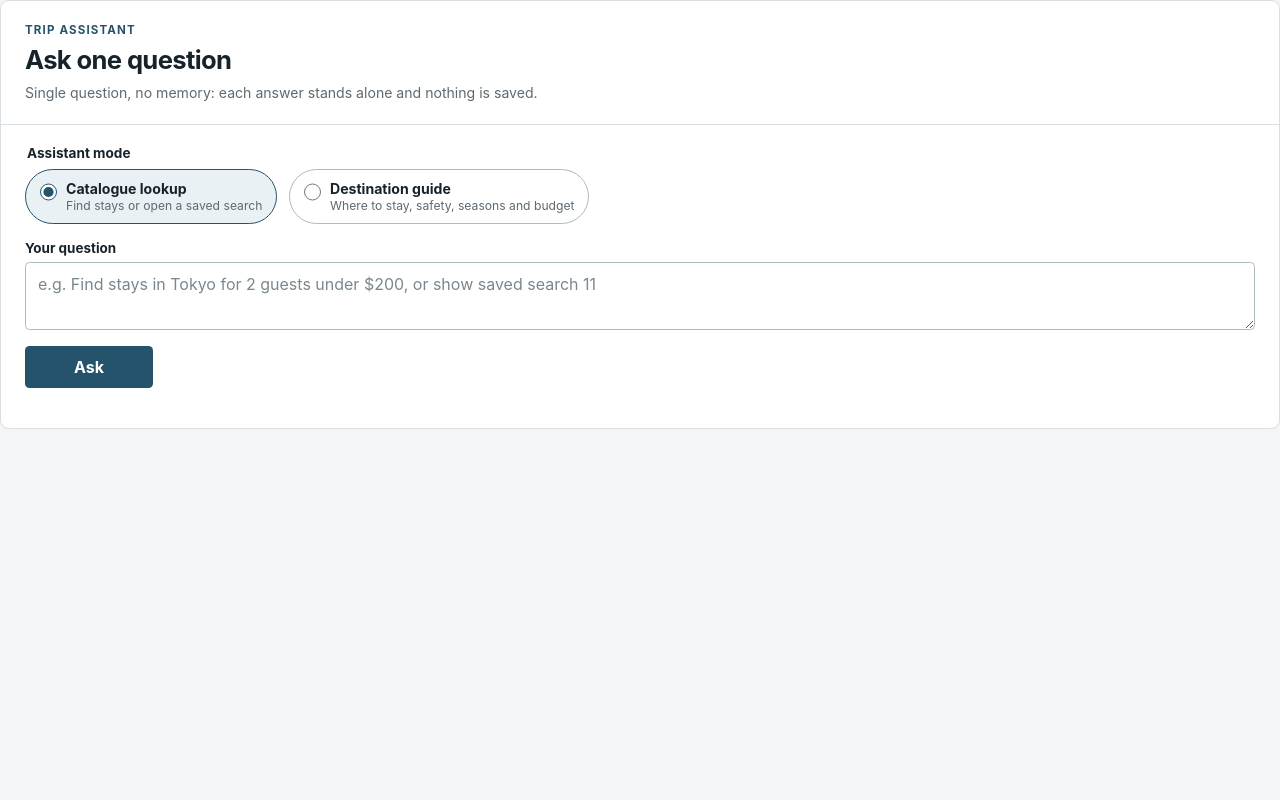
AssistantPanel › sends one lookup question and renders the tool, arguments and results as text
Replace the text in the text box with id "assistant-question" with "  Stays in Tokyo for 2 under $200  ": (640, 296) [25,262,1255,330]
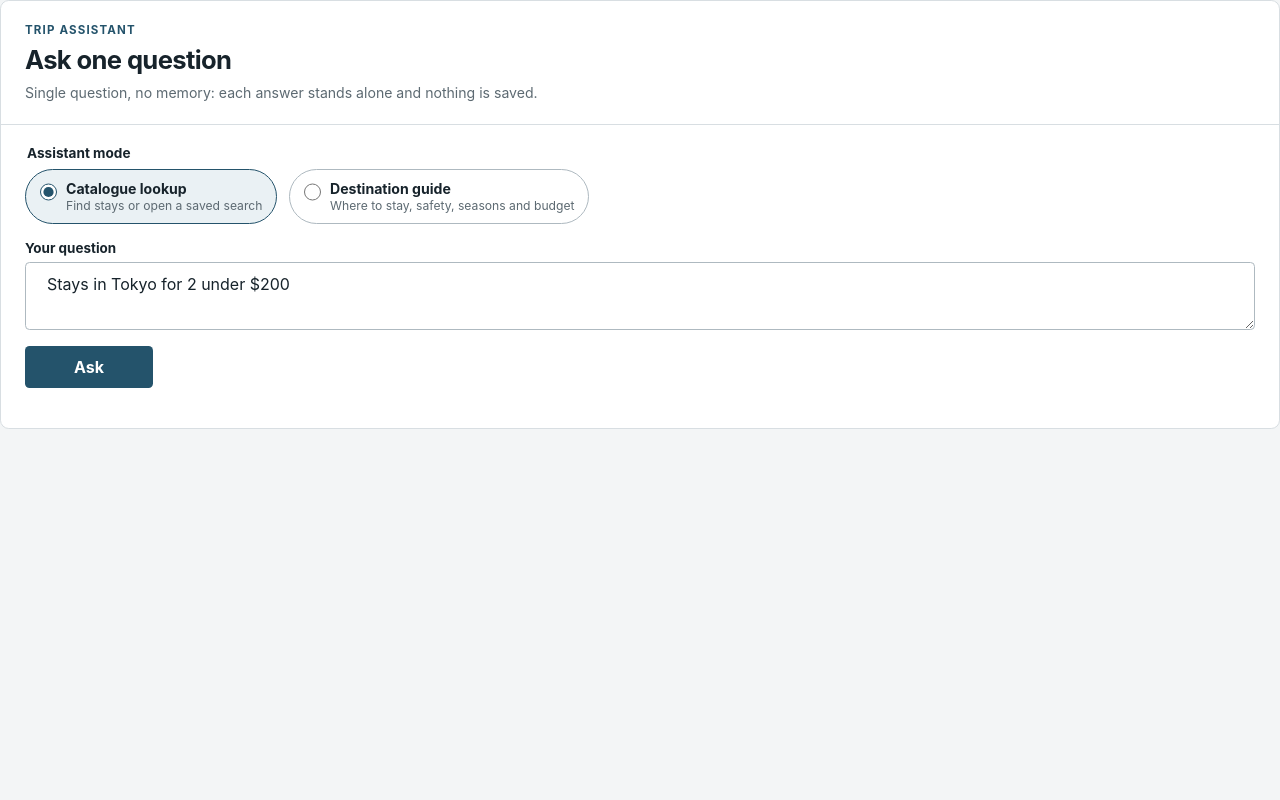
Click the button with class "assistant-submit": (89, 367) [25,346,153,388]
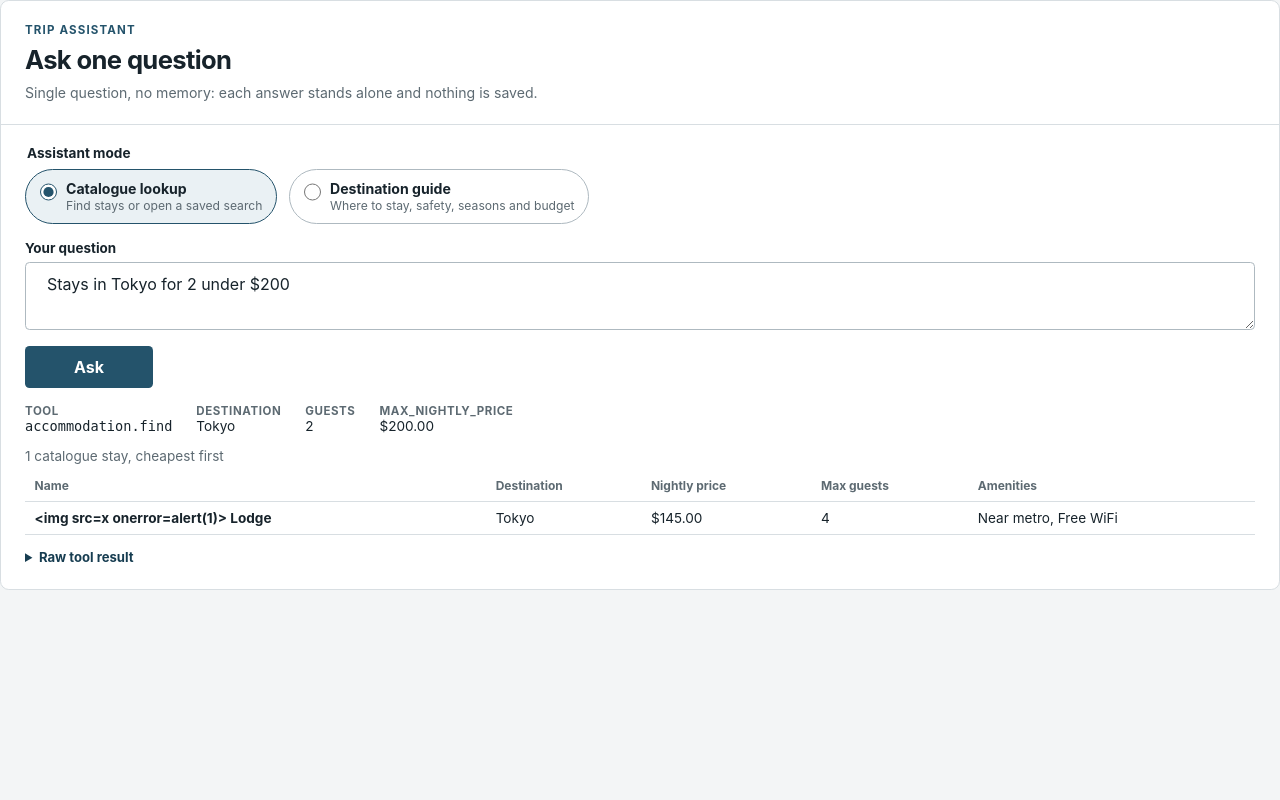
Expected: the text "accommodation.find" is shown, [25,418,172,434]
Expected: the text "max_nightly_price" is shown, [379,404,513,418]
Expected: the text "$200.00" is shown, [379,418,434,434]
